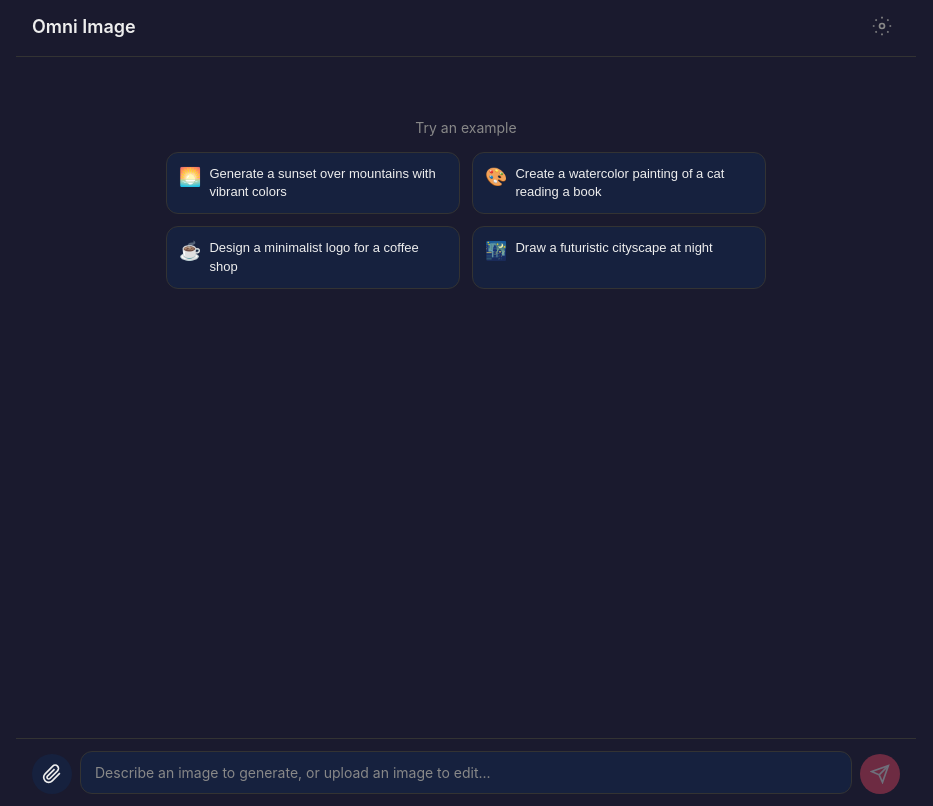
it: +page.svelte › error banner dismiss clears error
The width and height of the screenshot is (933, 806).
In the text box with placeholder "Describe an image to generate, or upload an image to edit...": (466, 772) [80,751,852,794], type "Test"
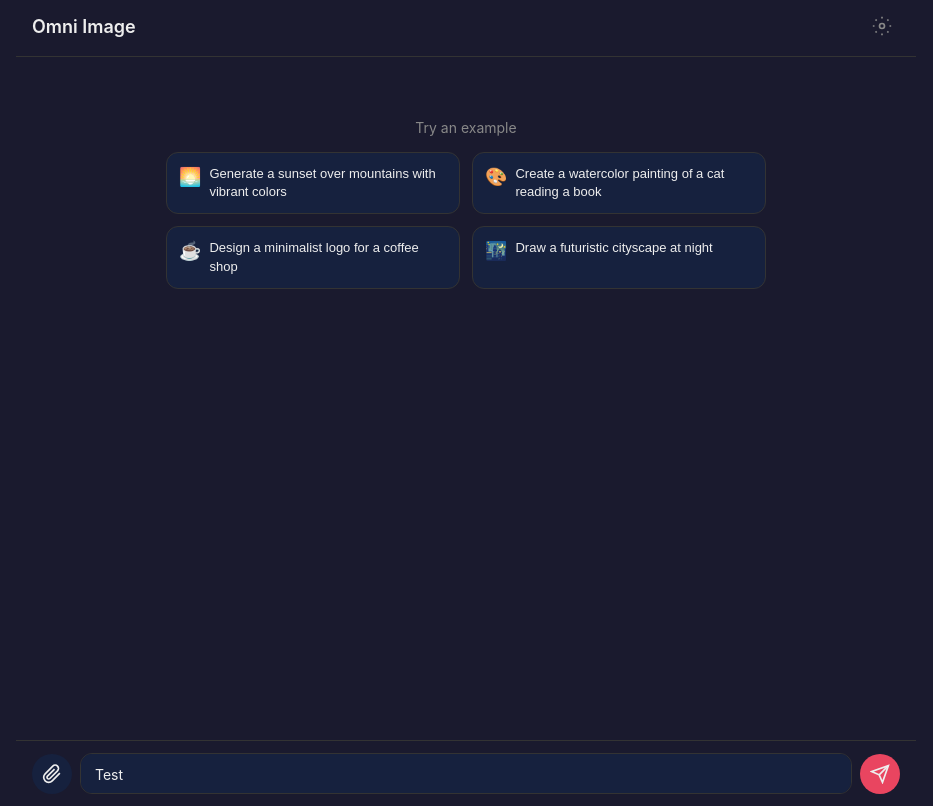
Click the button named "Send message": (880, 774) [860,754,900,794]
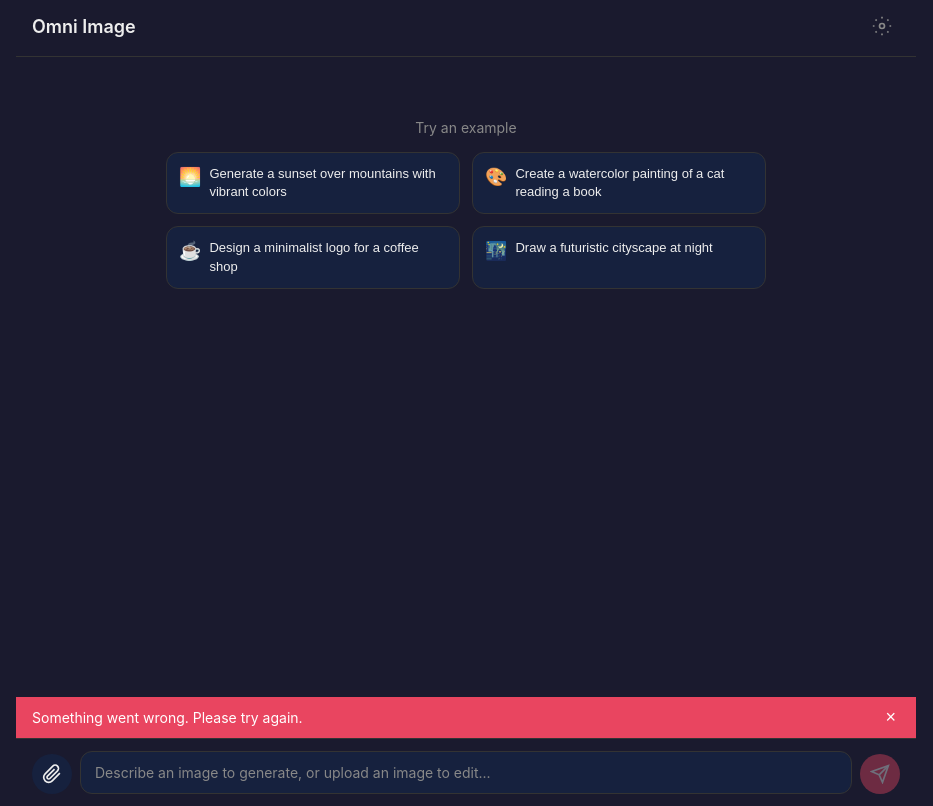
Now the text "Something went wrong. Please try again." is shown, box [32,709,303,726]
Click the button named "Dismiss error": (891, 718) [882,707,900,728]
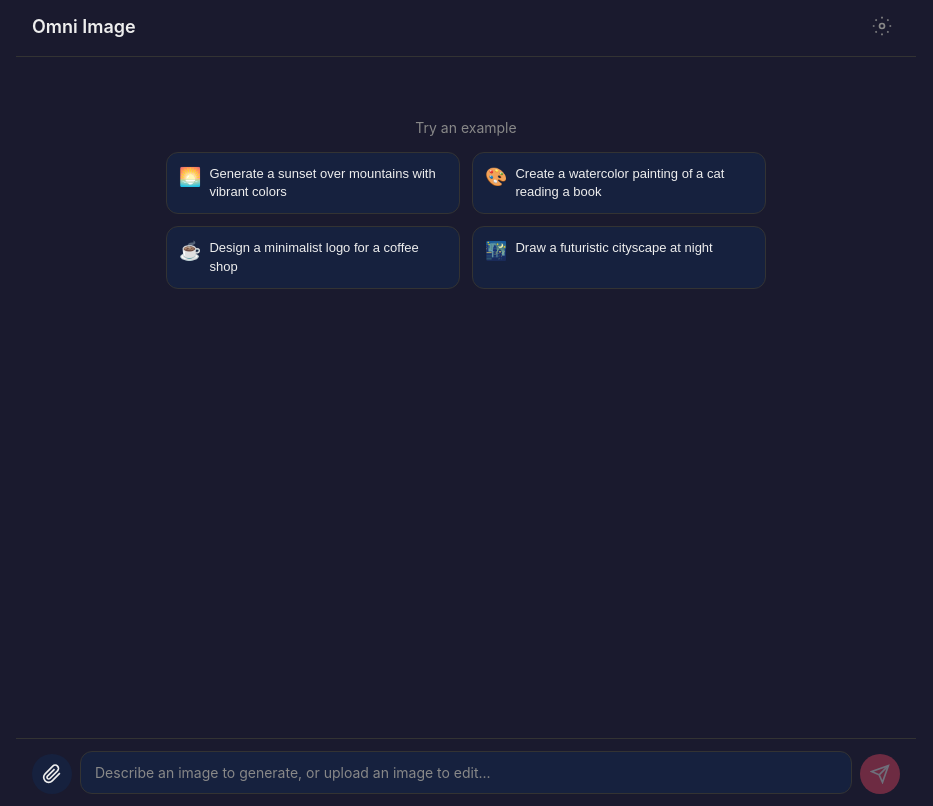
Now the text "Something went wrong. Please try again." is gone
